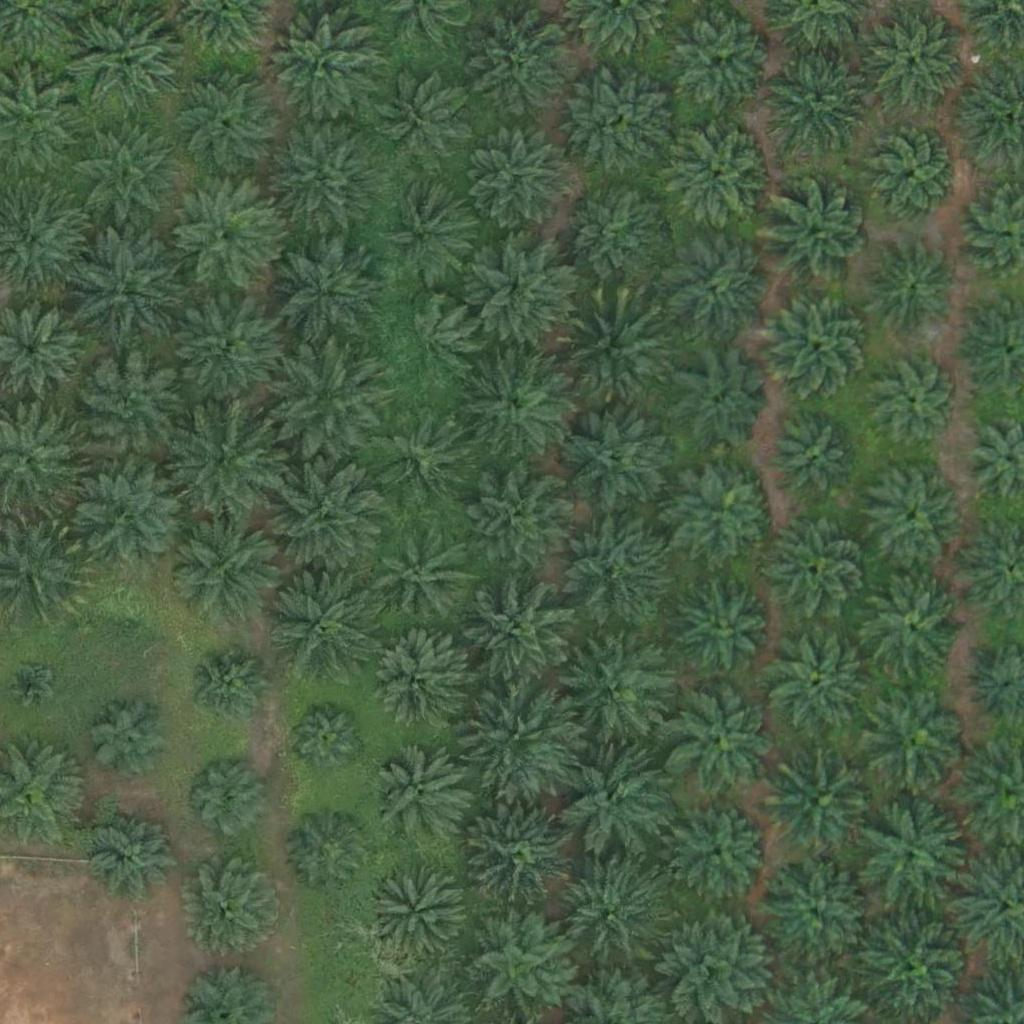Kelapa_Sawit: (766, 46, 879, 160), (266, 561, 379, 675), (169, 292, 282, 406), (166, 402, 279, 516), (67, 121, 180, 235), (69, 231, 182, 345), (266, 13, 379, 126), (464, 121, 577, 234), (760, 178, 873, 291), (762, 288, 875, 401), (561, 401, 674, 514), (557, 511, 670, 624), (466, 235, 579, 348), (457, 348, 570, 461), (463, 465, 576, 578), (171, 512, 284, 625), (73, 352, 186, 465), (465, 683, 578, 796), (466, 800, 579, 913), (562, 631, 675, 744), (559, 745, 672, 858), (553, 856, 666, 969), (854, 798, 967, 911), (463, 576, 575, 690), (270, 342, 382, 456), (272, 459, 384, 573), (71, 7, 183, 120), (170, 64, 282, 177), (269, 121, 381, 234), (568, 65, 680, 178), (559, 181, 671, 294), (558, 296, 670, 409), (268, 236, 380, 349), (168, 179, 280, 292), (78, 459, 190, 572), (461, 909, 573, 1022), (666, 685, 778, 798), (761, 624, 873, 737), (768, 751, 880, 864), (761, 857, 873, 970), (473, 16, 573, 117), (673, 9, 773, 110), (862, 237, 962, 338), (863, 465, 963, 566), (863, 582, 963, 683), (767, 519, 867, 620), (666, 124, 766, 225), (663, 236, 763, 337), (672, 352, 772, 453), (673, 462, 773, 563), (670, 576, 770, 677), (378, 182, 478, 283), (366, 633, 466, 734), (372, 745, 472, 846), (367, 863, 467, 964), (672, 802, 772, 903), (865, 14, 965, 114), (862, 124, 962, 224), (370, 409, 470, 509), (374, 528, 474, 628), (184, 858, 284, 958), (864, 686, 964, 786), (771, 414, 859, 502), (387, 299, 475, 387), (93, 810, 181, 898), (382, 75, 469, 163), (871, 357, 958, 445), (87, 695, 174, 783), (186, 645, 273, 733), (183, 754, 270, 842), (285, 809, 372, 897), (288, 701, 363, 776), (5, 659, 55, 710), (102, 596, 152, 646)
